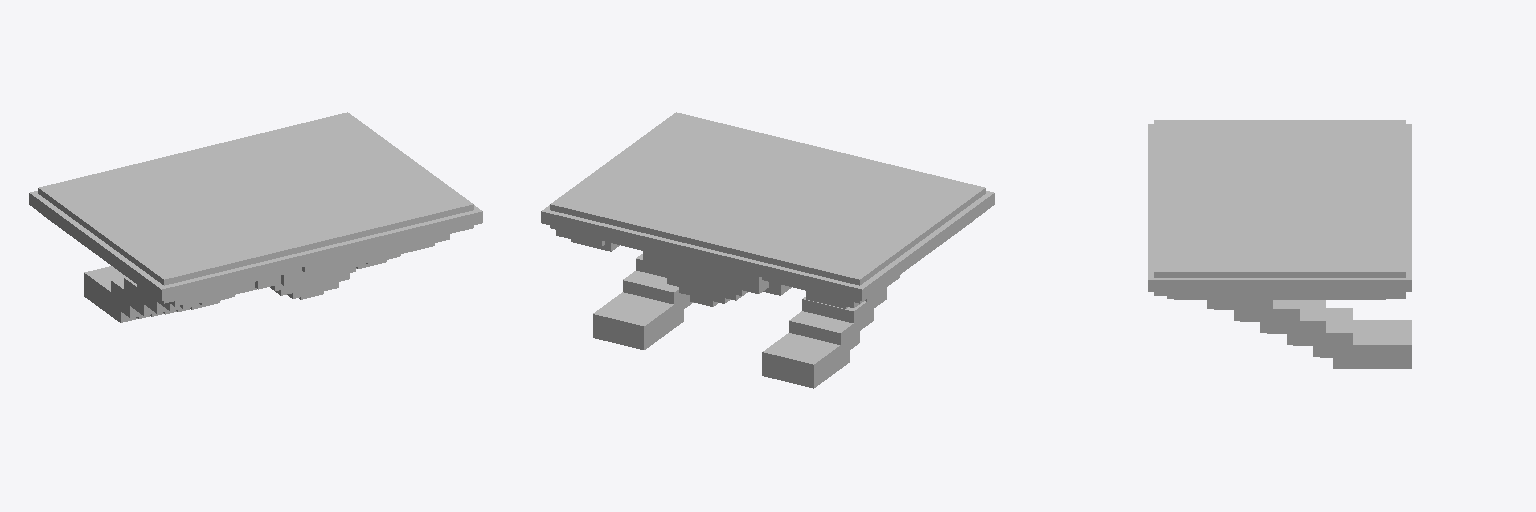
File: vr player platform rdy.obj
3 views of the same model, side by side, from view 1: azimuth 30°, elevation 25°; view 2: azimuth 150°, elevation 25°; view 3: azimuth 270°, elevation 25° (orthographic).
Parts seen in each view (by area): view 1: object 1; view 2: object 1; view 3: object 1.
Part boxes in pixels (x1,y1,x2,y2): object 1: (29,112,482,322); object 1: (541,112,994,388); object 1: (1148,120,1411,368).
Bounding box in the file's own units: 5.6 × 2 × 4.